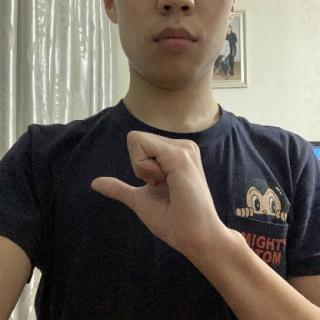WAW: (84, 126, 235, 265)
